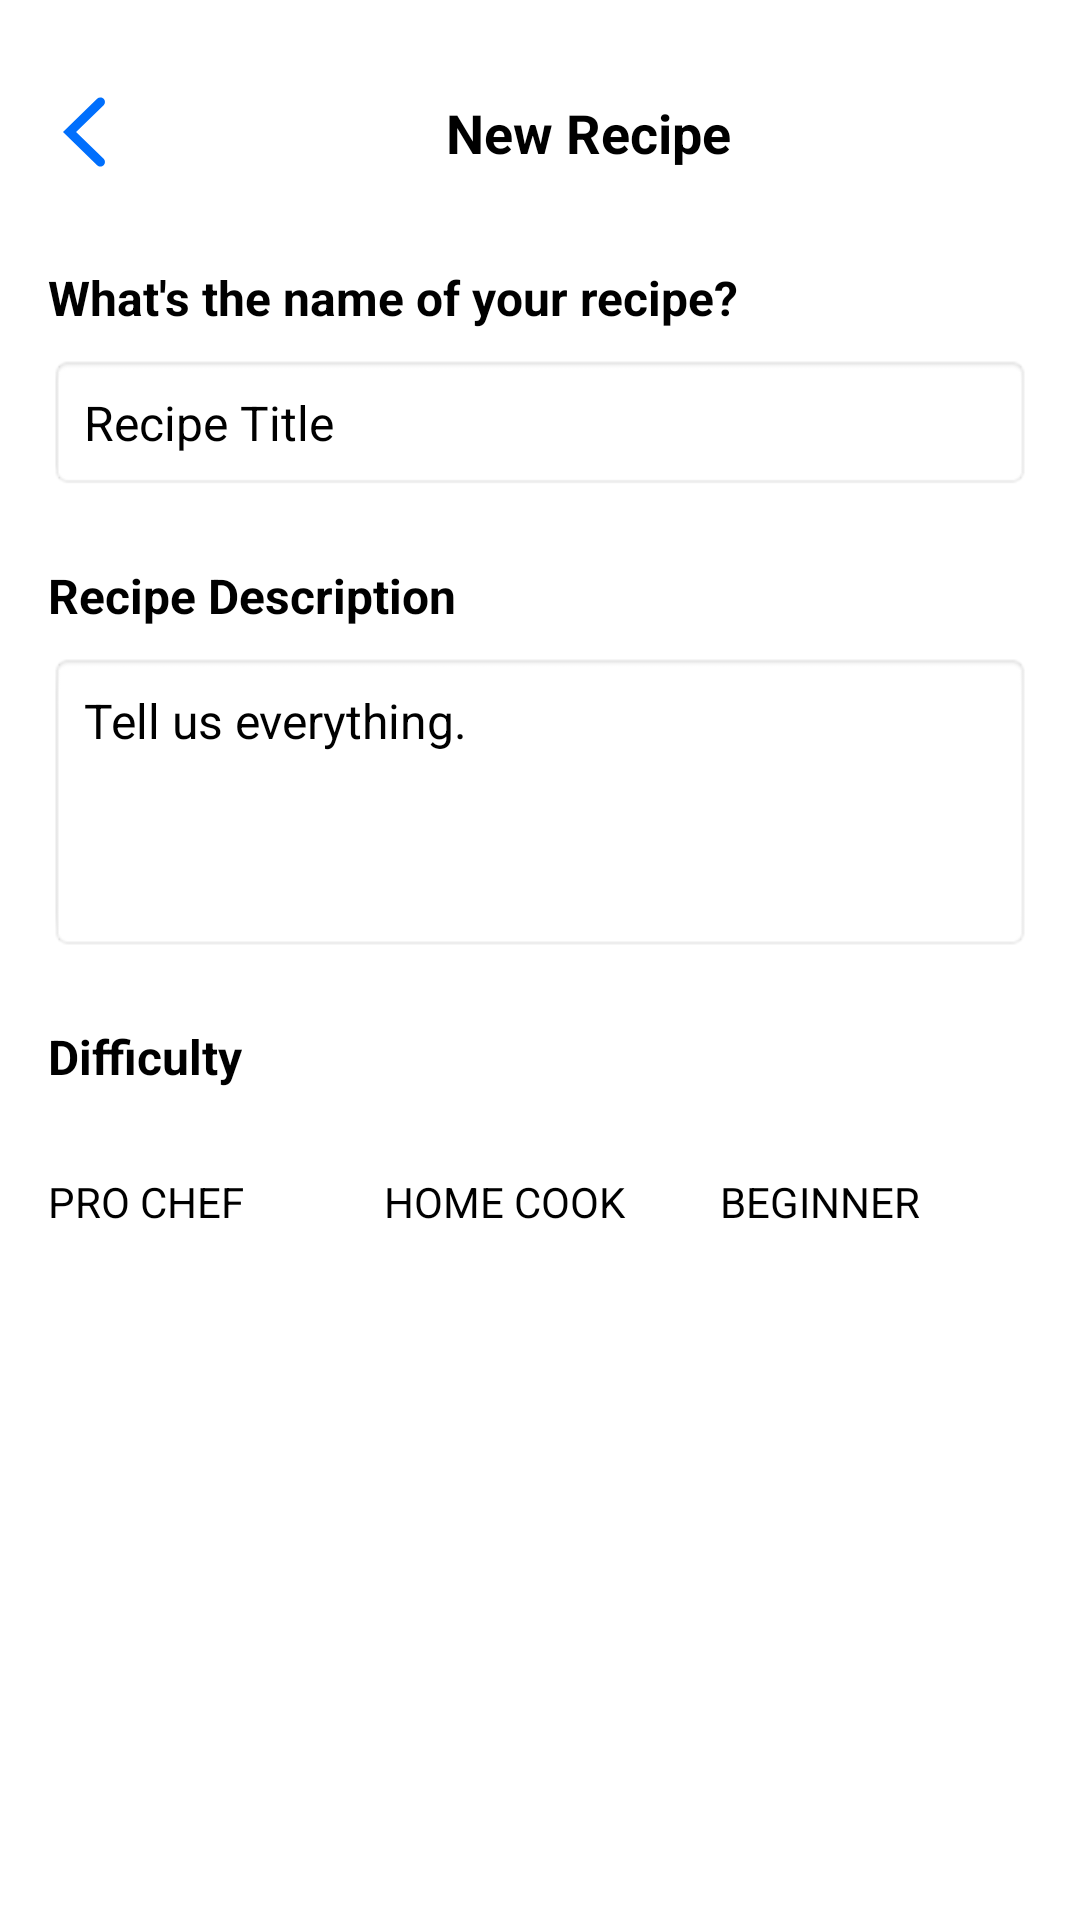

Icons on this 1080×1920 Android screen, each with the point to tap as [x,y]:
back: [84,132]
